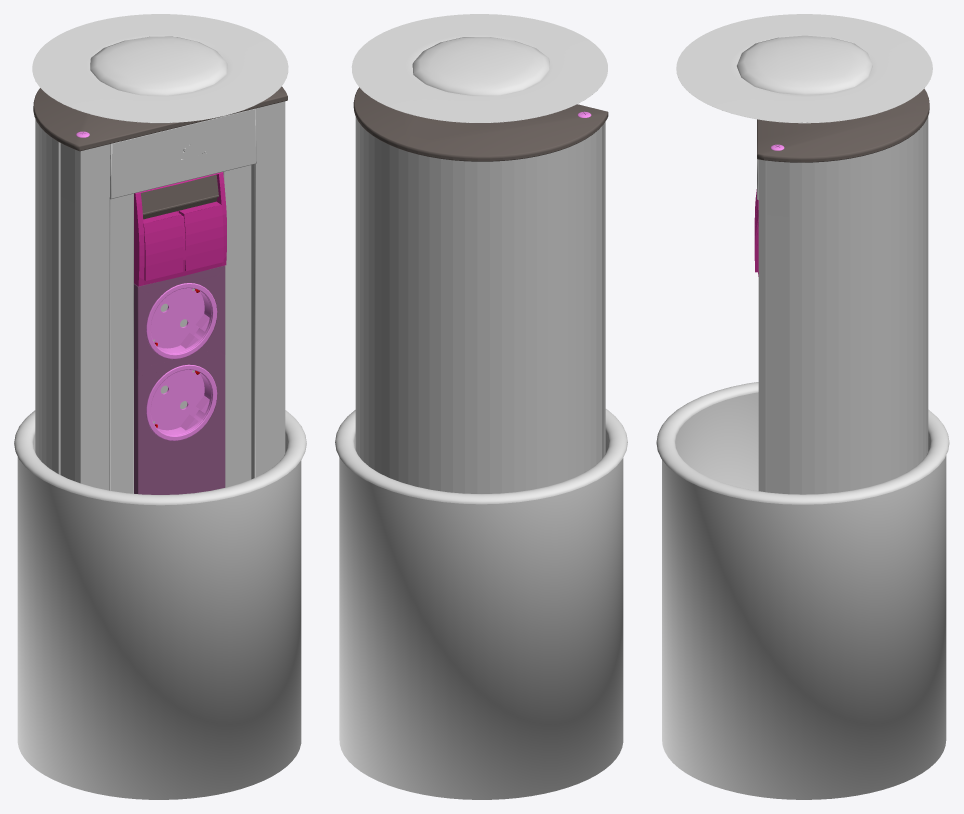
Rendered from Swich4.fbx.
The picture shows the model from 3 angles, left to right: view 1: azimuth 30°, elevation 25°; view 2: azimuth 150°, elevation 25°; view 3: azimuth 270°, elevation 25°; orthographic projection.
Visible parts, largest first — view 1: Cylinder.002, Cylinder.001, SE_System_M_MTN5791, Cylinder.003, Cylinder, Cube.003, Torus; view 2: Cylinder.001, Cylinder.002, Cylinder.003, Cube.003, Torus; view 3: Cylinder.002, Cylinder.001, Cylinder.003, Cube.003, Torus.
Part boxes in pixels (<box>): Cylinder.002: <box>17,434,301,799</box>; Cylinder.001: <box>33,86,287,493</box>; SE_System_M_MTN5791: <box>134,265,225,494</box>; Cylinder.003: <box>32,14,288,122</box>; Cylinder: <box>134,172,226,286</box>; Cube.003: <box>90,36,227,123</box>; Torus: <box>14,410,306,505</box>; Cylinder.001: <box>353,87,608,493</box>; Cylinder.002: <box>339,431,623,799</box>; Cylinder.003: <box>351,14,607,122</box>; Cube.003: <box>412,37,549,95</box>; Torus: <box>335,409,627,504</box>; Cylinder.002: <box>662,392,946,799</box>; Cylinder.001: <box>757,88,929,494</box>; Cylinder.003: <box>676,14,932,123</box>; Cube.003: <box>737,35,872,94</box>; Torus: <box>656,382,949,504</box>.
Size of the model in its own units: 16297 by 41846 by 16297.
